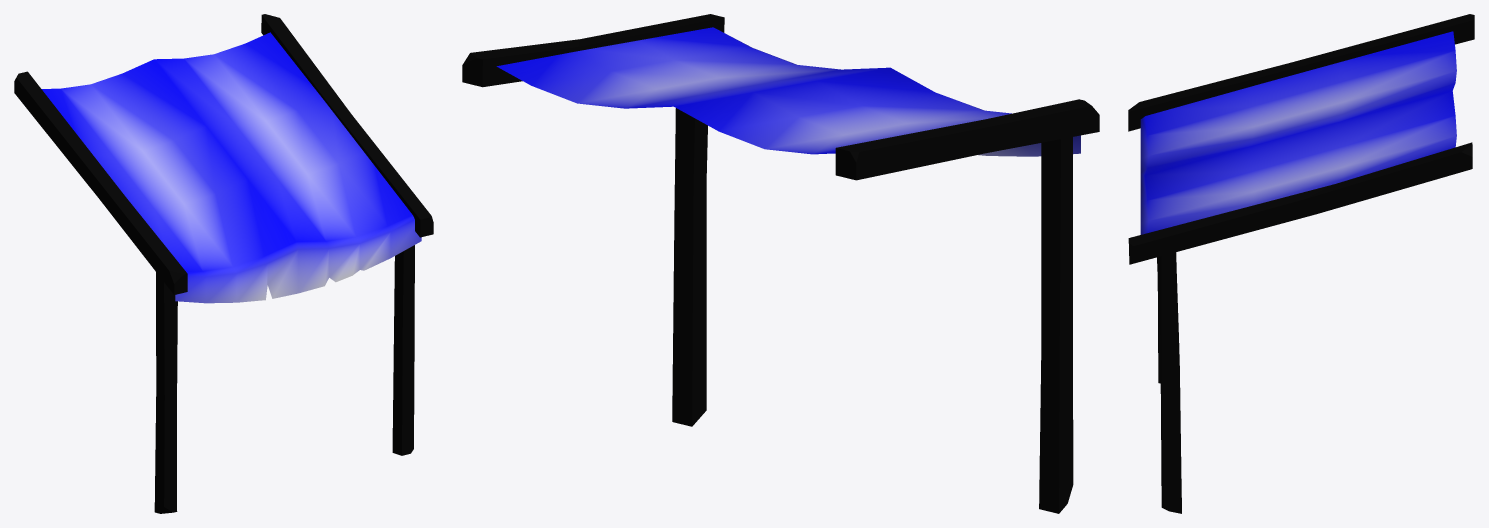
File: SM_Bld_Canopy_01.fbx
3 renders of one model, left to right at view 1: azimuth 30°, elevation 25°; view 2: azimuth 150°, elevation 25°; view 3: azimuth 270°, elevation 25°, orthographic. The views are drawn at different scales.
Parts seen in each view (by area): view 1: SM_Bld_Canopy_01; view 2: SM_Bld_Canopy_01; view 3: SM_Bld_Canopy_01.
Boxes of the visible parts, x1,y1,x2,y2 form: SM_Bld_Canopy_01: [14, 14, 433, 513]; SM_Bld_Canopy_01: [462, 14, 1099, 513]; SM_Bld_Canopy_01: [1128, 14, 1474, 513].
Bounding box in the file's own units: 264 × 329 × 281.
